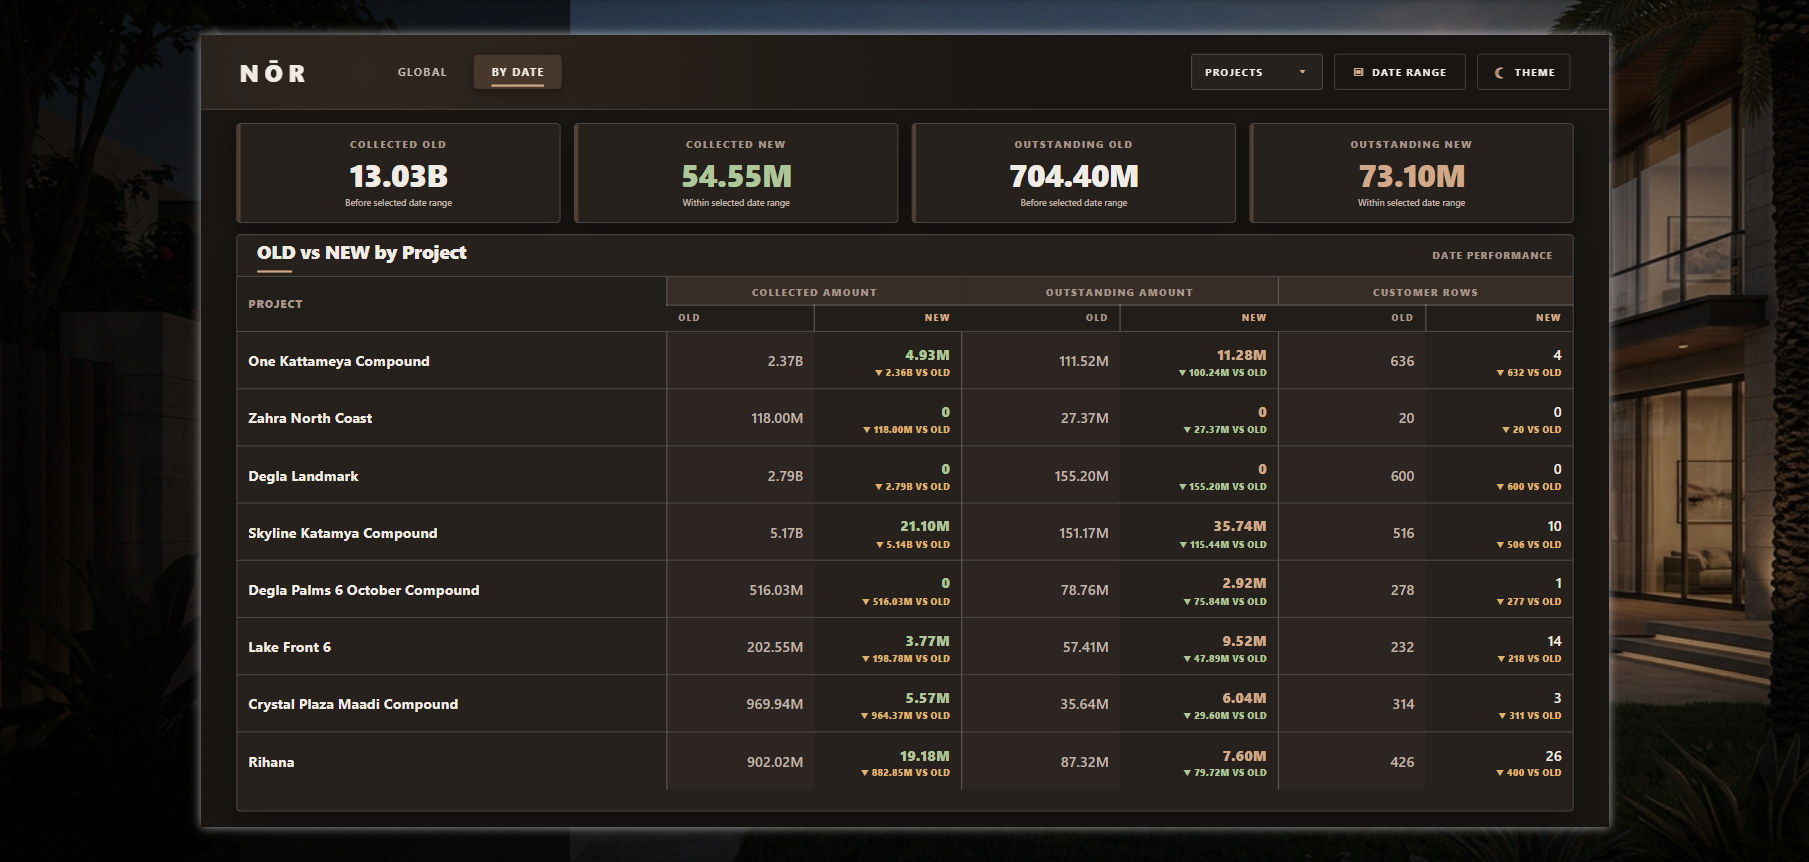

Layout of this report page (visuals, bound fields, positions):
{"tool":"powerbi","page":{"name":"By Date","canvas":[1280,720],"ordinal":2},"visuals":[{"type":"htmlContent443BE3AD55E043BF878BED274D3A6855","fields":{"content":["HTML Visuals.```DAXHTML_Global_Summary"]},"box":[0,0,1280,720],"z":0}]}

Visuals, with their boxes on the page's 1280x720 design canvas (x1, y1, x2, y2). These are canvas units, not pixel positions in the 1809x862 screenshot, which may show the page scaled, cropped or inside an application window:
htmlContent443BE3AD55E043BF878BED274D3A6855 - HTML Visuals.```DAXHTML_Global_Summary: [0,0,1280,720]
